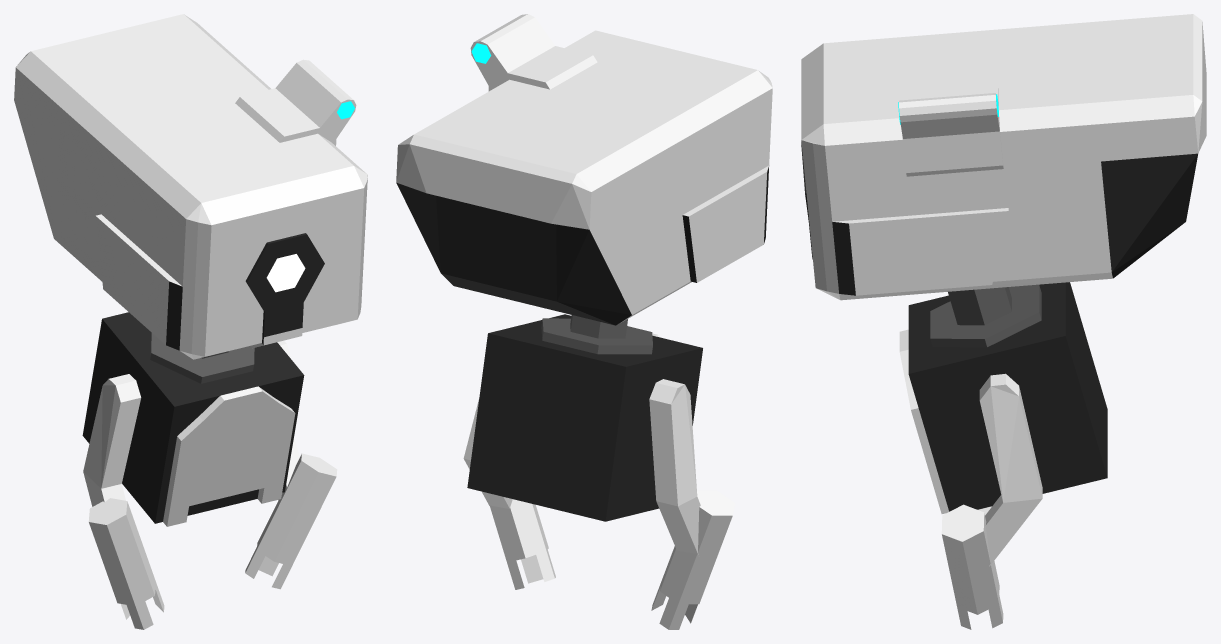
Rendered from cyberPunk1.gltf.
3 views of the same model, side by side, from view 1: azimuth 30°, elevation 25°; view 2: azimuth 150°, elevation 25°; view 3: azimuth 270°, elevation 25° (orthographic). The views are drawn at different scales.
Visible parts, largest first — view 1: robot; view 2: robot; view 3: robot.
Boxes of the visible parts, x1,y1,x2,y2 form: robot: (14,14,367,629); robot: (396,14,772,629); robot: (801,14,1206,629).
Size of what is drawn, in the model's own units: 0.9416 by 1.89 by 1.25.
Materials: 1 (1 with a texture image).
